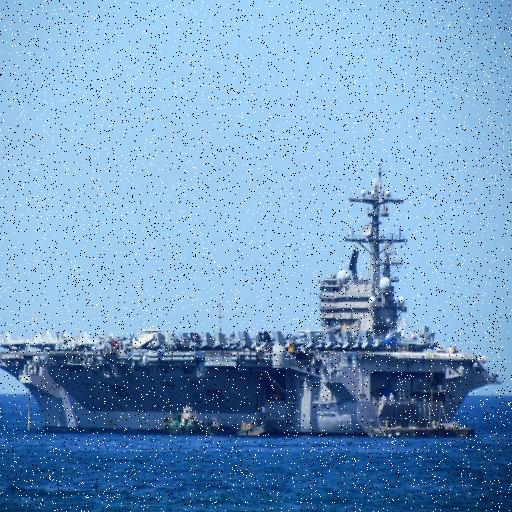Portanaves: (1, 168, 503, 446)
